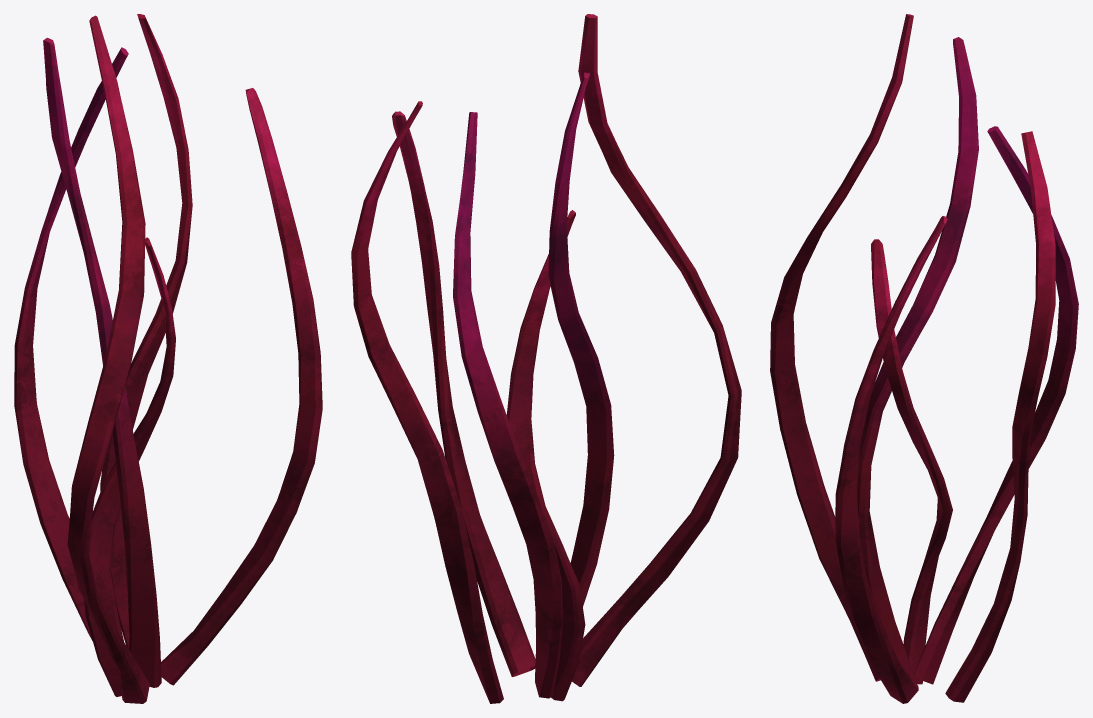
The model's file is plant_11.fbx.
The picture shows the model from 3 angles, left to right: view 1: azimuth 30°, elevation 25°; view 2: azimuth 150°, elevation 25°; view 3: azimuth 270°, elevation 25°; orthographic projection. The views are drawn at different scales.
Parts seen in each view (by area): view 1: polySurface1; view 2: polySurface1; view 3: polySurface1.
Boxes of the visible parts, x1,y1,x2,y2 form: polySurface1: [14, 14, 322, 703]; polySurface1: [351, 14, 741, 703]; polySurface1: [770, 14, 1078, 703].
Size of the model in its own units: 7.16 by 16.91 by 7.19.
